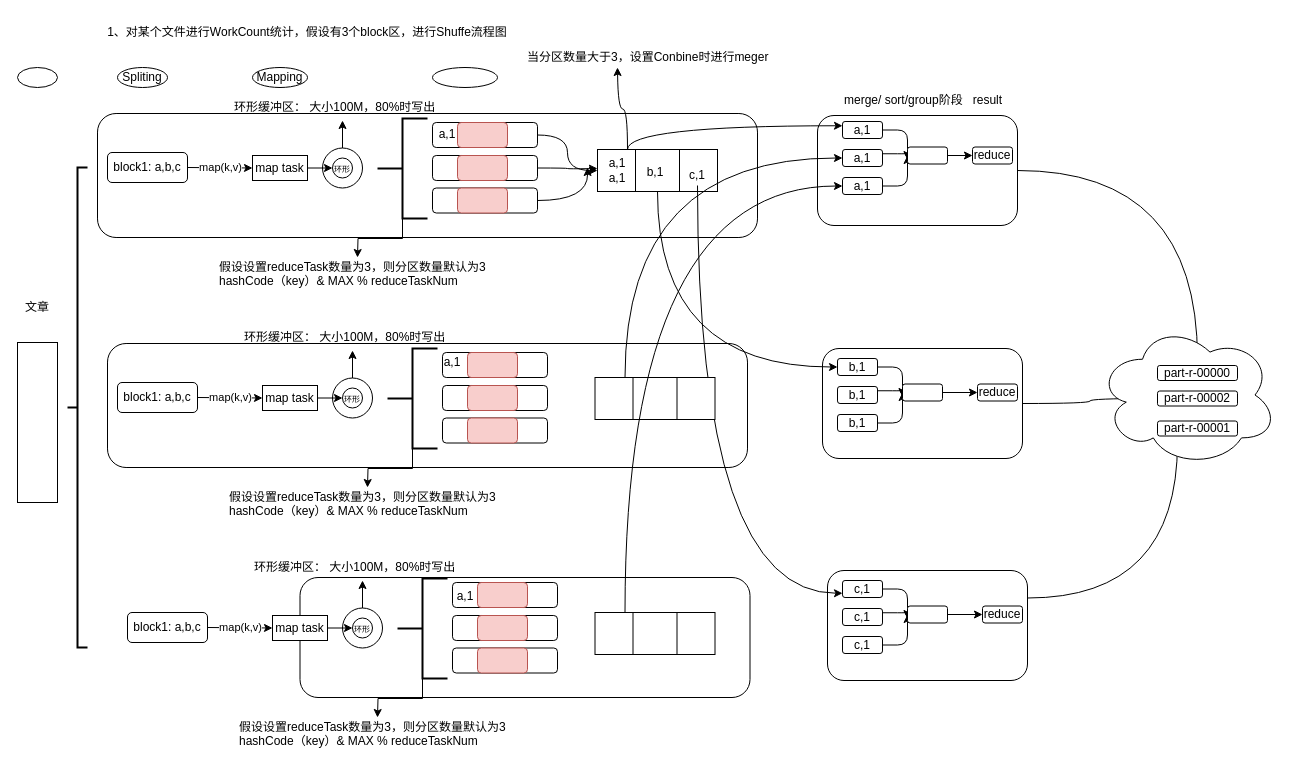
This 1295x766 diagram has some shape labels left out. Here are the shapes that lost their labels. From the top down, the centre of each, then its label:
At [37,77]: "Input".
At [465,77]: "Coping".
At [927,155]: "a,3".
At [922,392]: "b,3".
At [37,422]: "b1: a b2: b b3: c".
At [927,614]: "c,3".
